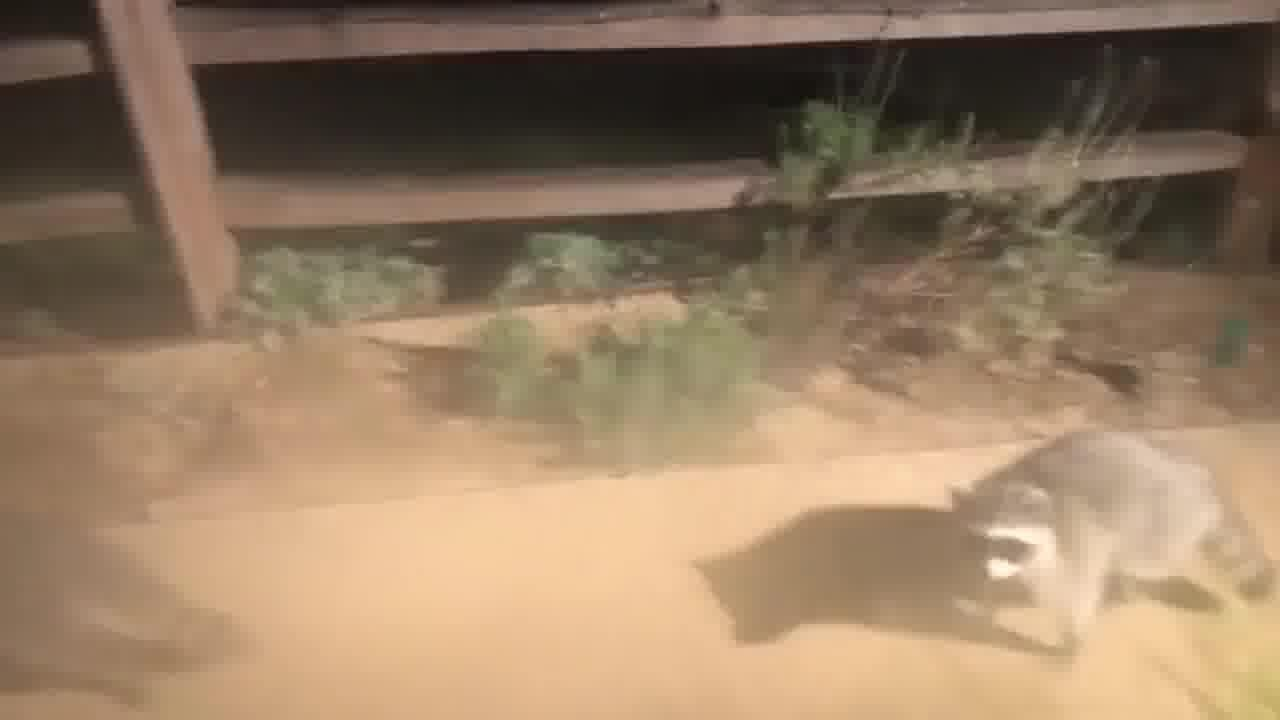raccoon: (941, 419, 1280, 662)
